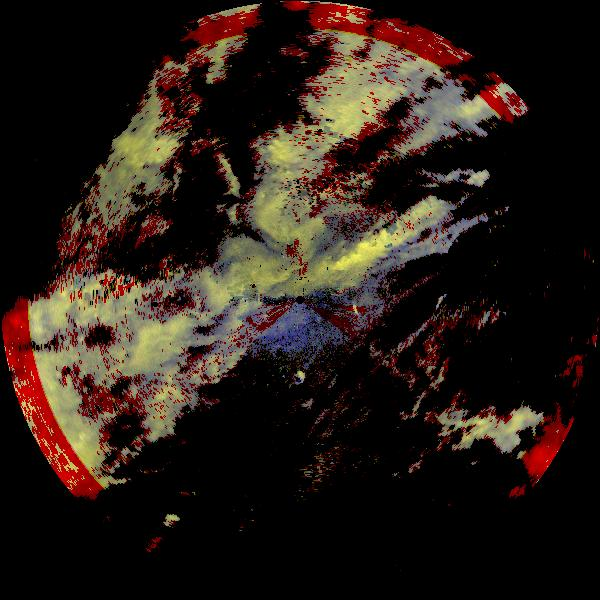roost: (292, 369, 310, 387), (348, 304, 366, 322)
